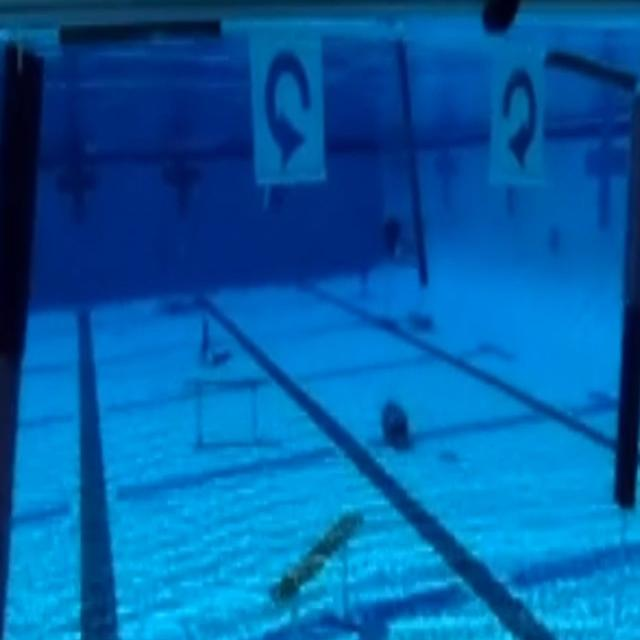Gate: (6, 23, 636, 517)
